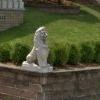Statue: (23, 21, 51, 80)
